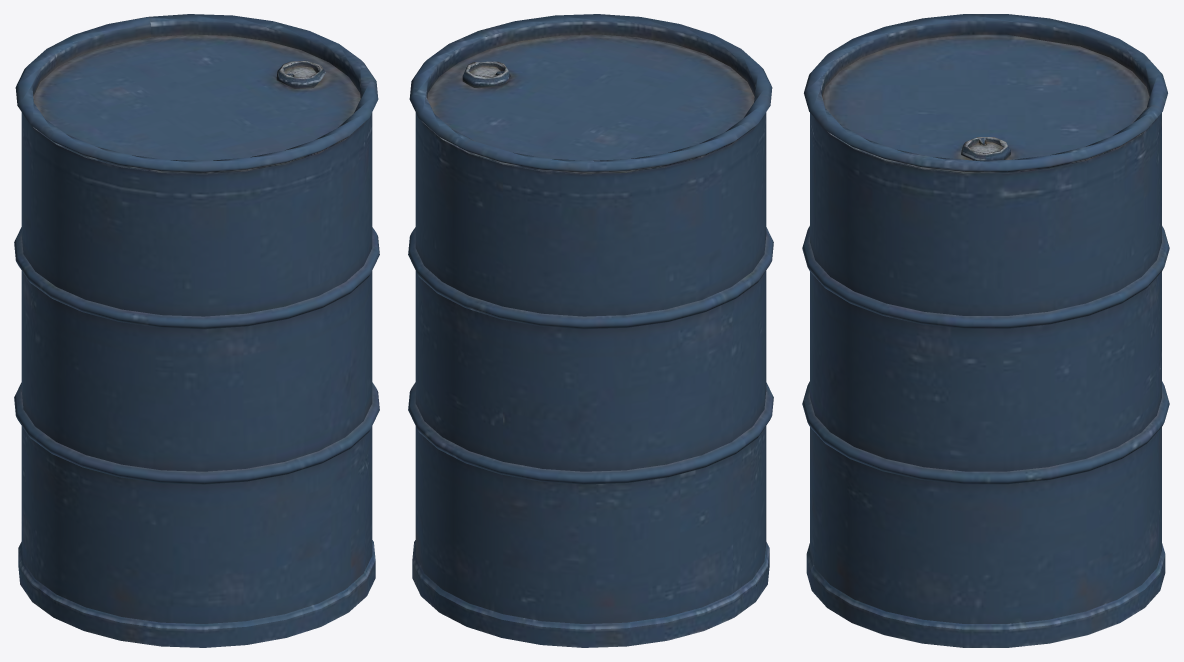
File: barrel_03.glb
The picture shows the model from 3 angles, left to right: view 1: azimuth 30°, elevation 25°; view 2: azimuth 150°, elevation 25°; view 3: azimuth 270°, elevation 25°; orthographic projection.
Visible parts, largest first — view 1: barrel_03; view 2: barrel_03; view 3: barrel_03.
Boxes of the visible parts, bbox=[...] form: barrel_03: bbox=[14, 14, 379, 647]; barrel_03: bbox=[408, 14, 773, 647]; barrel_03: bbox=[802, 14, 1169, 647].
Size of the model in its own units: 0.6339 by 0.9305 by 0.6386.
Materials: 1 (1 with a texture image).
